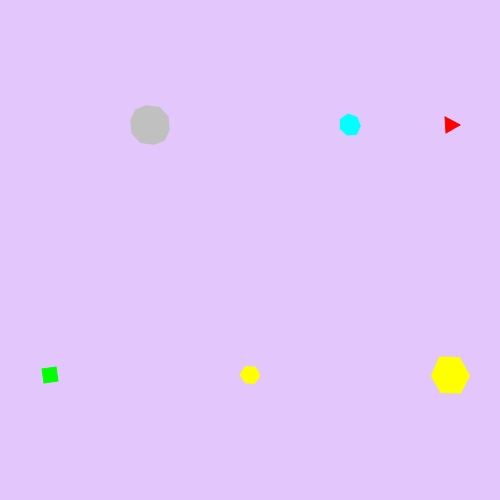decagon: (125, 102, 175, 148)
heptagon: (335, 110, 366, 140)
hexagon: (425, 354, 475, 396), (235, 362, 265, 388)
quadrilateral: (35, 360, 65, 390)
triangle: (438, 112, 463, 138)
